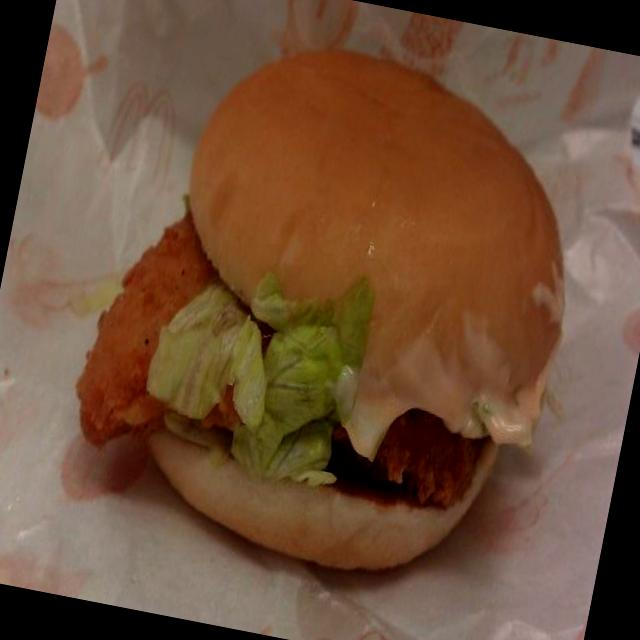Hamburger: (42, 2, 616, 604)
